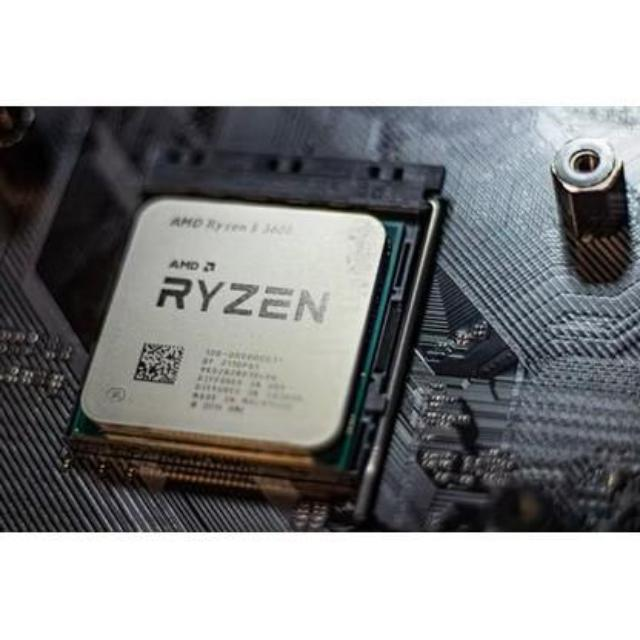CPU: (75, 194, 392, 452)
